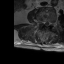CCS_normal: (46, 18, 48, 29)
LFS_normal: (50, 19, 52, 26)
LLS_normal: (48, 19, 50, 27)
RFS_stenosis: (41, 18, 44, 25)
RLS_normal: (43, 19, 46, 26)
